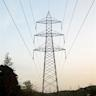power_tower: (29, 11, 67, 95)
